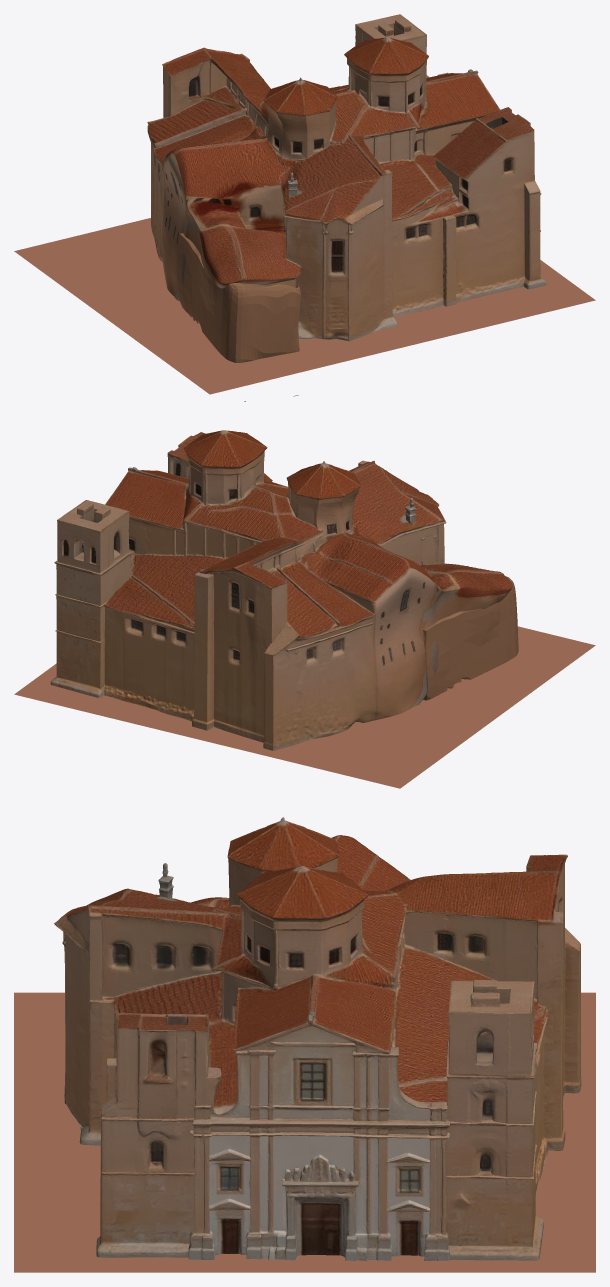
Rendered from annunziata1.glb.
The picture shows the model from 3 angles, top to bottom: view 1: azimuth 30°, elevation 25°; view 2: azimuth 150°, elevation 25°; view 3: azimuth 270°, elevation 25°; orthographic projection. The views are drawn at different scales.
Visible parts, largest first — view 1: tripo_node_b8eb1ab9-ba7c-4088-8847-35c89579b08b, Piano, Parallelepipedo; view 2: tripo_node_b8eb1ab9-ba7c-4088-8847-35c89579b08b, Piano, Parallelepipedo; view 3: tripo_node_b8eb1ab9-ba7c-4088-8847-35c89579b08b, Piano.
Part boxes in pixels (box(x1,y1,x2,y2)): tripo_node_b8eb1ab9-ba7c-4088-8847-35c89579b08b: box(147, 14, 546, 341); Piano: box(14, 218, 595, 394); Parallelepipedo: box(177, 233, 300, 401); tripo_node_b8eb1ab9-ba7c-4088-8847-35c89579b08b: box(50, 430, 512, 750); Piano: box(14, 626, 595, 788); Parallelepipedo: box(423, 576, 518, 700); tripo_node_b8eb1ab9-ba7c-4088-8847-35c89579b08b: box(54, 817, 581, 1261); Piano: box(14, 992, 595, 1272).
Bounding box in the file's own units: 1.14 × 0.7449 × 1.
3 materials, 1 textured.
